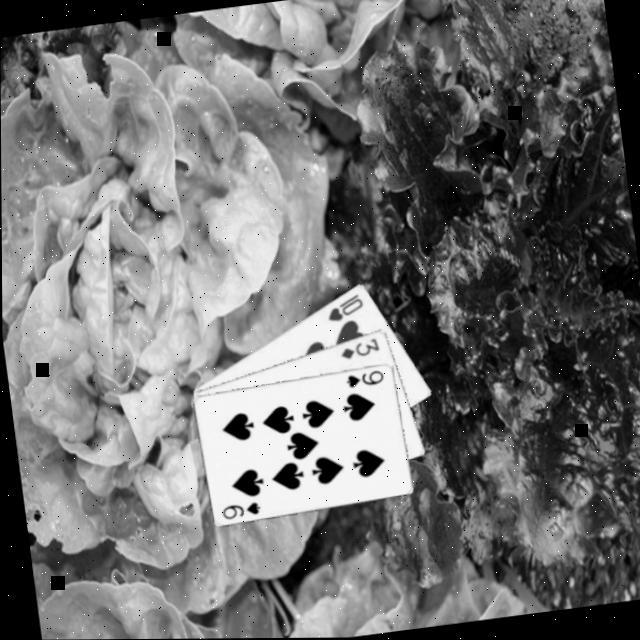10H: (321, 289, 366, 324)
3D: (334, 334, 380, 362)
9S: (216, 496, 262, 522), (340, 366, 385, 390)
